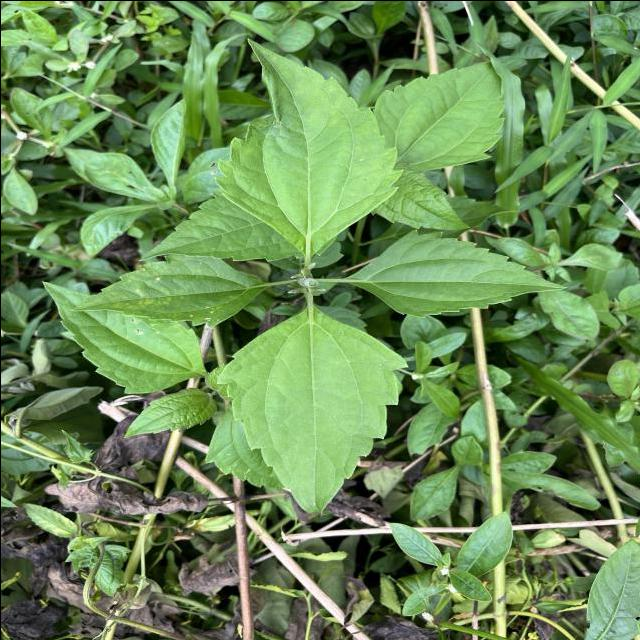Chromolaena odorata: (208, 33, 407, 263), (211, 306, 412, 519), (347, 226, 570, 320)
